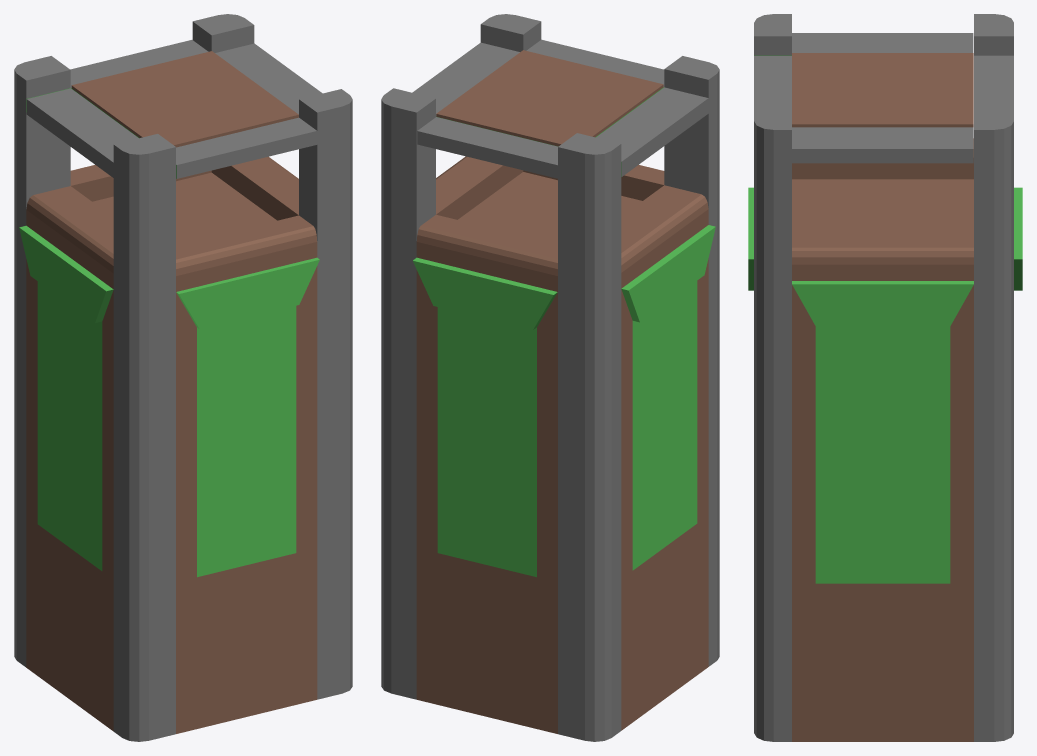
The model's file is ArcherTower.blend.fbx.
The picture shows the model from 3 angles, left to right: view 1: azimuth 30°, elevation 25°; view 2: azimuth 150°, elevation 25°; view 3: azimuth 270°, elevation 25°; orthographic projection. The views are drawn at different scales.
Visible parts, largest first — view 1: Cube.001; view 2: Cube.001; view 3: Cube.001.
Boxes of the visible parts, box(x1,y1,x2,y2) form: Cube.001: box(14, 14, 352, 741); Cube.001: box(381, 14, 719, 741); Cube.001: box(748, 14, 1022, 741).
Size of the model in its own units: 204 by 474 by 193.
